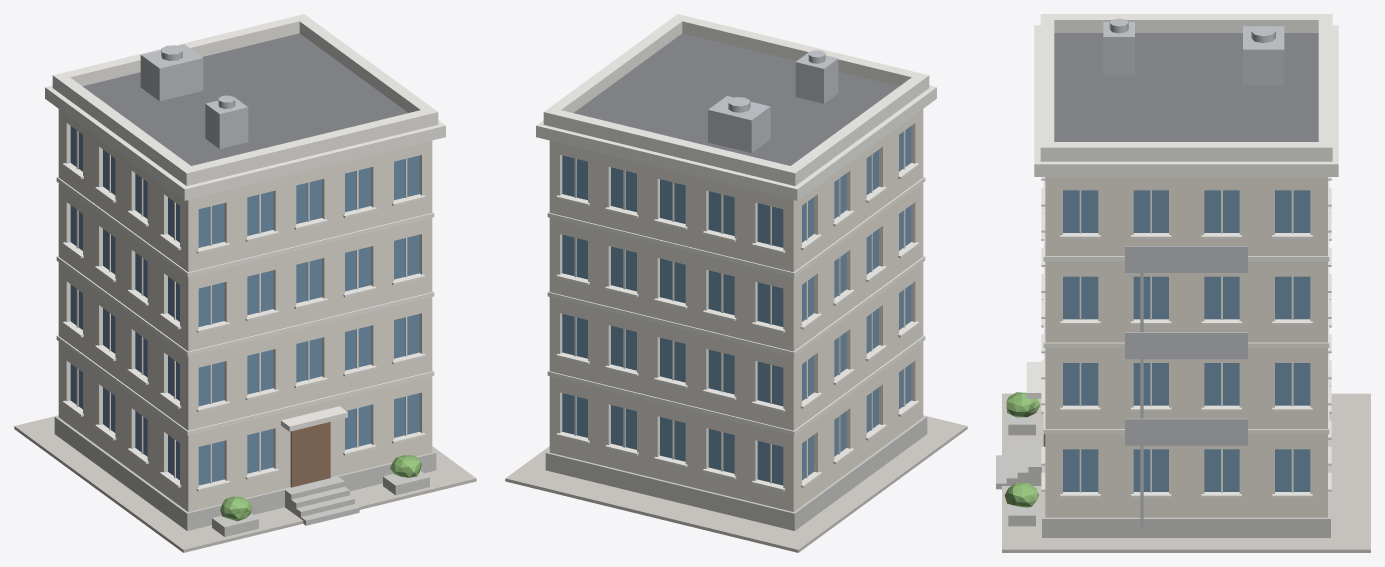
3 views of the same model, side by side, from view 1: azimuth 30°, elevation 25°; view 2: azimuth 150°, elevation 25°; view 3: azimuth 270°, elevation 25° (orthographic). The views are drawn at different scales.
Parts seen in each view (by area): view 1: r_2_1_b; view 2: r_2_1_b; view 3: r_2_1_b.
Part boxes in pixels (left/top/right/bottom): r_2_1_b: left=14, top=14, right=476, bottom=552; r_2_1_b: left=505, top=14, right=967, bottom=552; r_2_1_b: left=996, top=14, right=1370, bottom=552.
Size of the model in its own units: 12 by 15.3 by 12.2.
